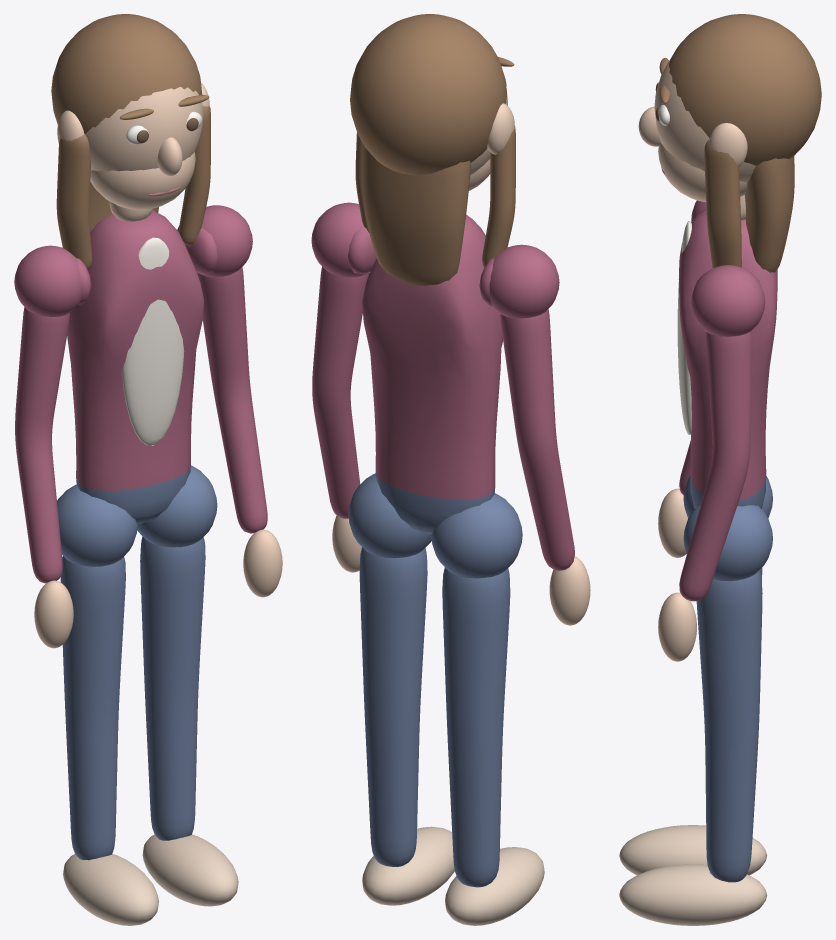
File: mom.glb
The picture shows the model from 3 angles, left to right: view 1: azimuth 30°, elevation 25°; view 2: azimuth 150°, elevation 25°; view 3: azimuth 270°, elevation 25°; orthographic projection. The views are drawn at different scales.
Visible parts, largest first — view 1: Body, Head, LegL, LegR, ArmL, ArmR; view 2: Head, Body, LegL, LegR, ArmL, ArmR; view 3: Head, LegR, ArmR, Body, LegL, ArmL.
Part boxes in pixels (x1,y1,x2,y2): Body: (67,210,217,523); Head: (51,14,210,269); LegL: (57,484,158,925); LegR: (137,465,238,906); ArmL: (14,245,81,648); ArmR: (185,205,282,597); Head: (350,14,515,286); Body: (348,214,502,533); LegL: (431,493,544,925); LegR: (348,473,454,905); ArmL: (489,244,590,625); ArmR: (311,202,369,572); Head: (638,14,821,272); LegR: (619,505,772,925); ArmR: (658,265,765,661); Body: (677,208,777,508); LegL: (619,476,772,875); ArmL: (658,200,706,557).
Size of the model in its own units: 7.34 by 24.95 by 5.2.
